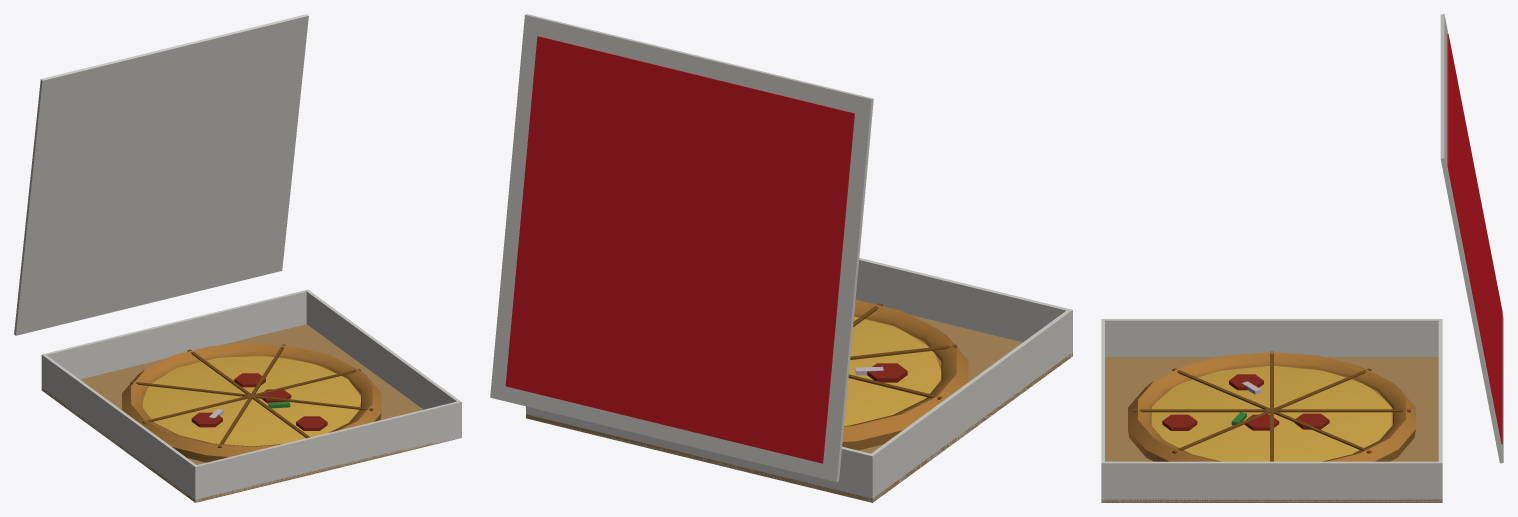
The model's file is pizza-box-open.glb.
3 views of the same model, side by side, from view 1: azimuth 30°, elevation 25°; view 2: azimuth 150°, elevation 25°; view 3: azimuth 270°, elevation 25° (orthographic). The views are drawn at different scales.
Parts seen in each view (by area): view 1: BODY; view 2: BODY; view 3: BODY.
Boxes of the visible parts, box(x1,y1,x2,y2) form: BODY: box(14, 14, 461, 502); BODY: box(490, 14, 1072, 502); BODY: box(1101, 14, 1503, 502).
Bounding box in the file's own units: 0.35 × 0.39 × 0.4127.
